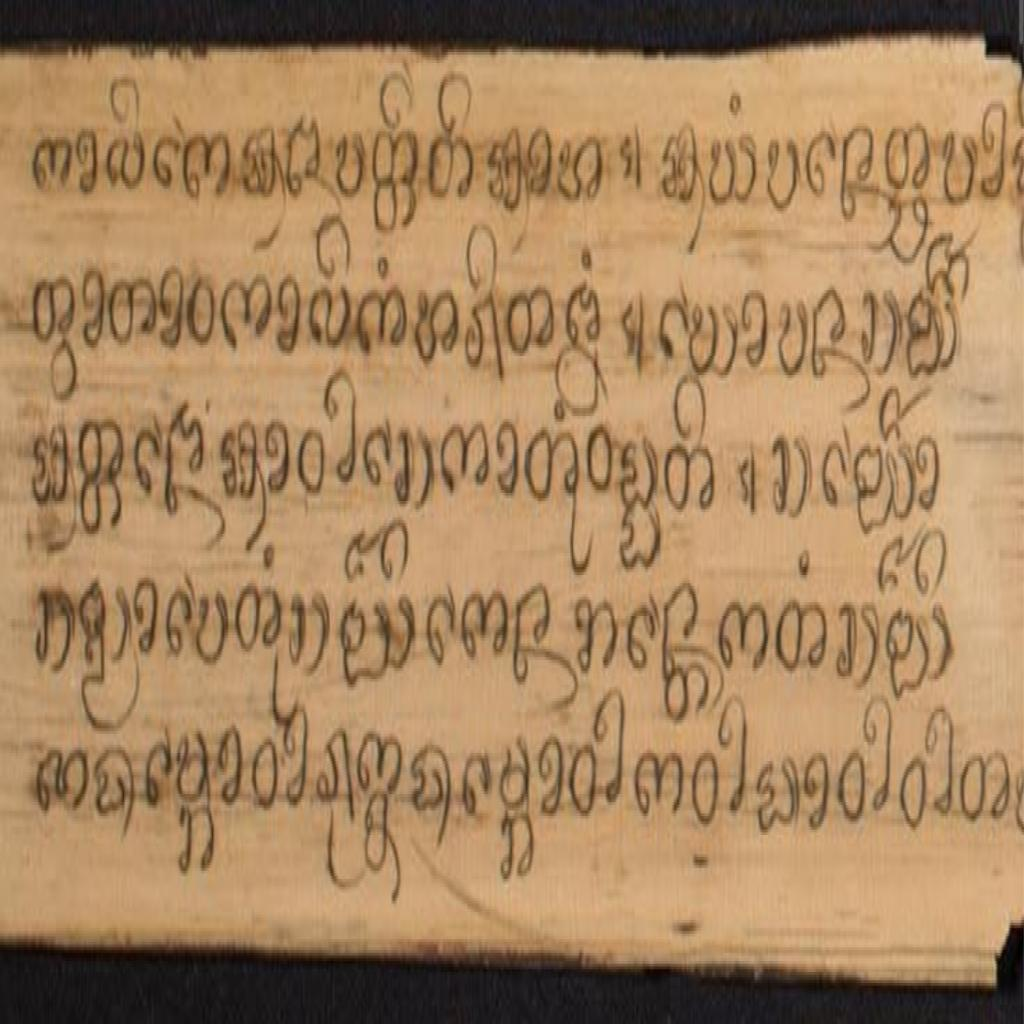LN020: (408, 735, 455, 830)
